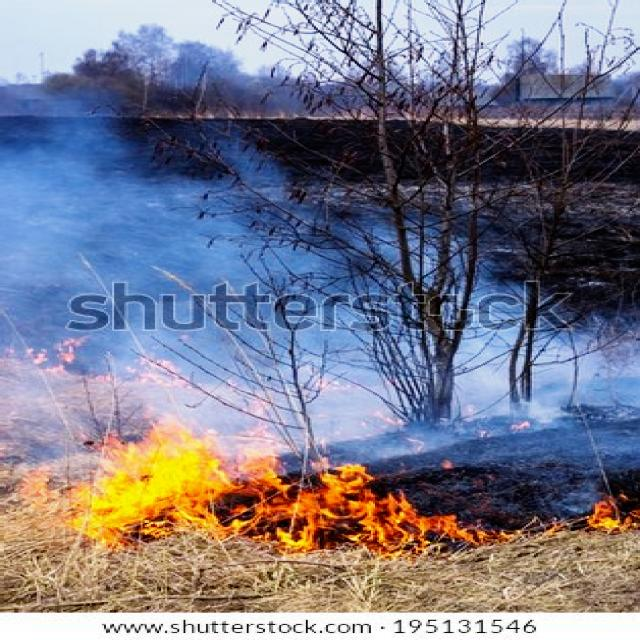api: (51, 418, 511, 567)
asap: (1, 75, 629, 434)
